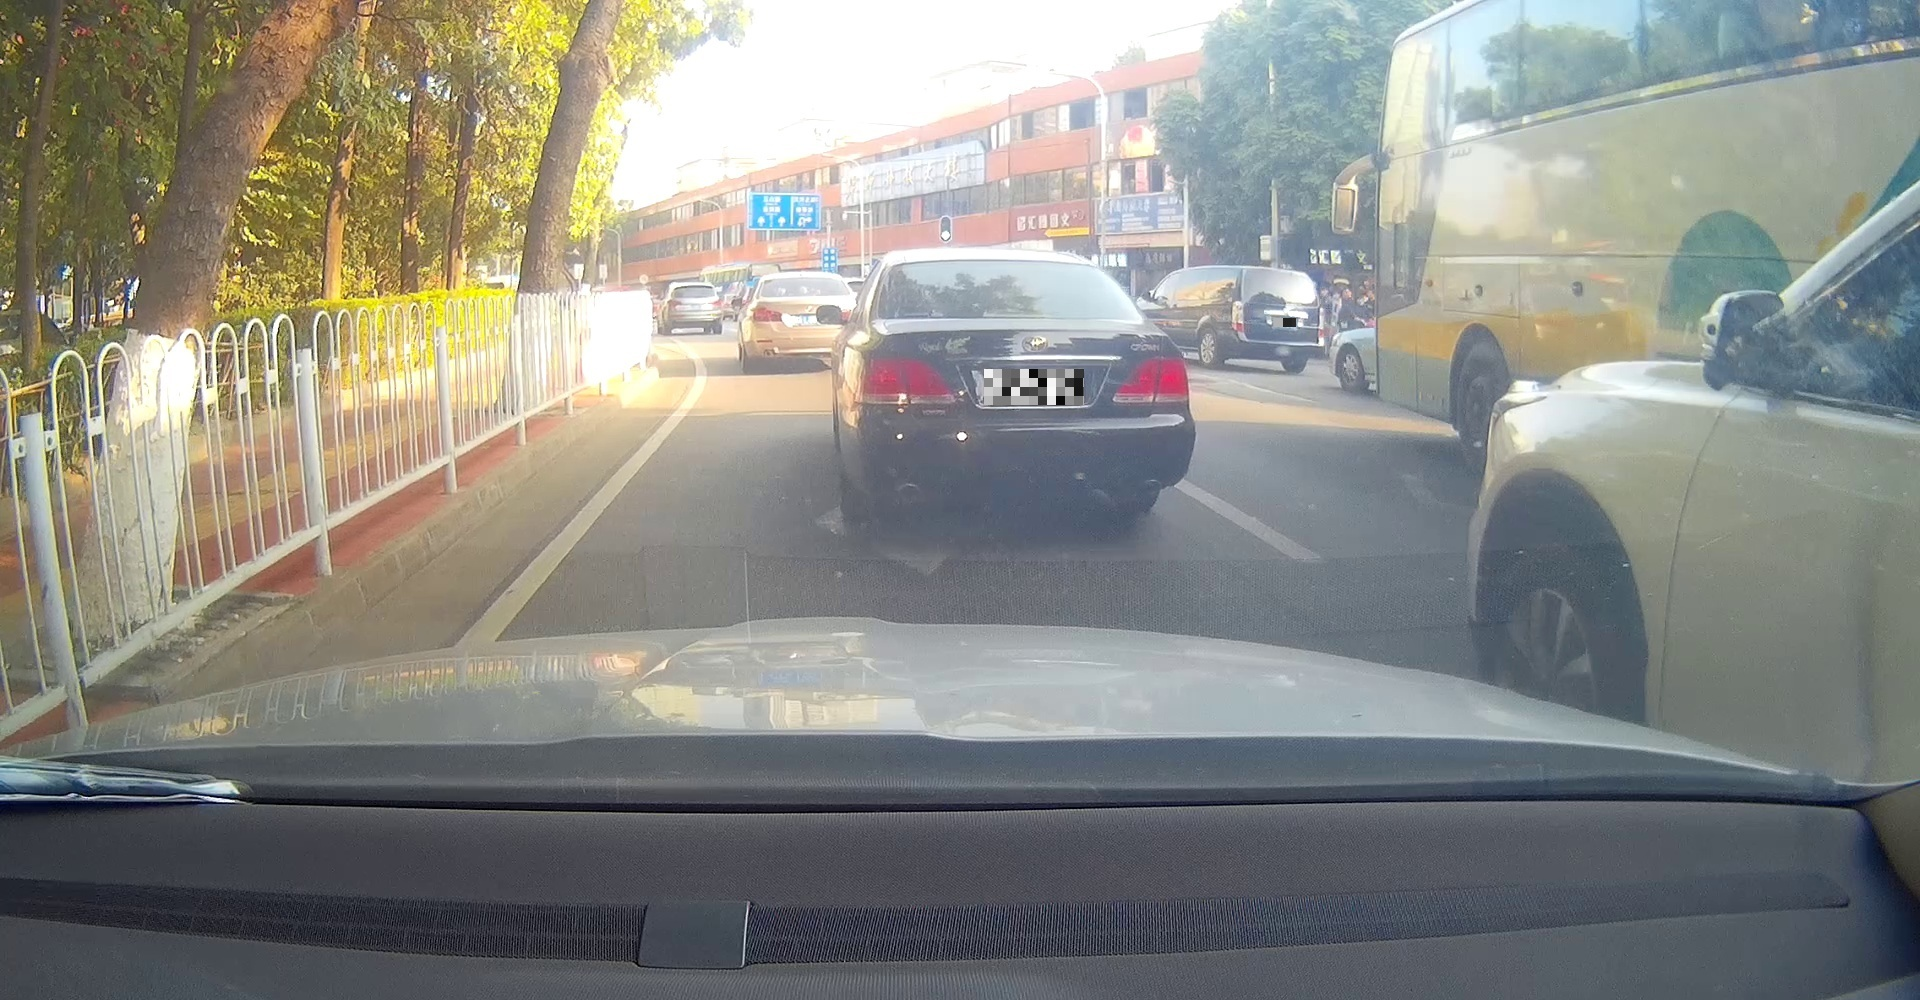L_light: (853, 355, 957, 405), (1232, 301, 1244, 332)
R_light: (1111, 357, 1189, 404), (1318, 307, 1324, 339)
T_light: (982, 308, 1051, 319), (1272, 272, 1291, 275)
day-no: (851, 247, 1197, 523), (1230, 266, 1324, 373)
plate_1: (984, 369, 1084, 405)
plate_2: (1274, 319, 1297, 327)
